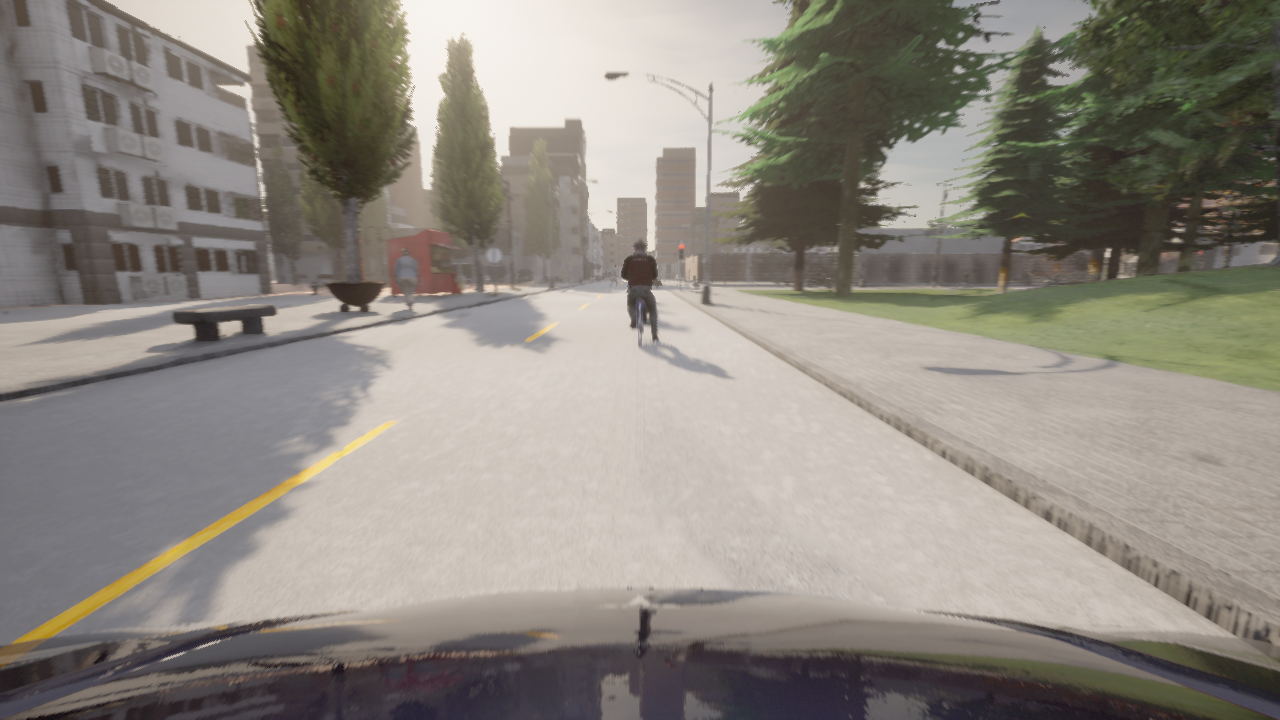cyclist: (0, 588, 1279, 719), (631, 298, 648, 346), (806, 274, 833, 286), (635, 299, 649, 321), (1044, 275, 1070, 286), (957, 277, 973, 286), (718, 268, 731, 279), (740, 274, 761, 279), (651, 278, 661, 287), (746, 273, 758, 279), (807, 269, 815, 277), (773, 272, 785, 277)
pedestrian: (394, 248, 418, 310), (608, 263, 618, 291), (455, 271, 465, 295), (627, 285, 629, 291)
